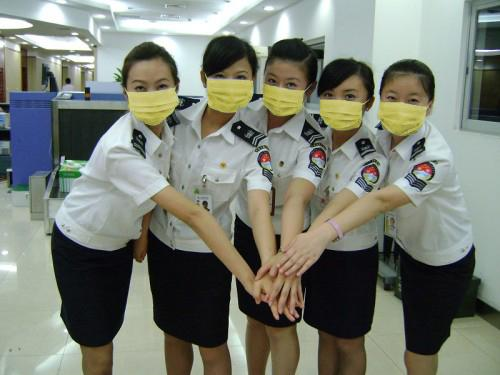OK: (128, 77, 178, 127), (206, 66, 254, 114), (319, 88, 367, 131), (379, 91, 428, 130), (266, 71, 308, 116)
